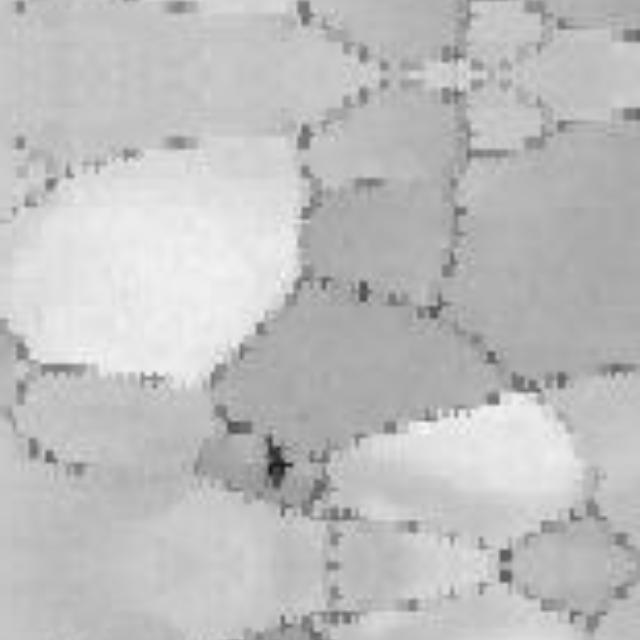good_void: (261, 431, 295, 491)
